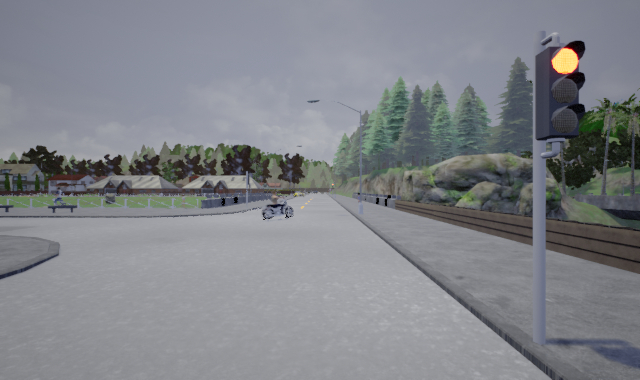motobike: (260, 193, 295, 221)
pedestrian: (51, 186, 66, 208)
traffic_light: (536, 40, 586, 140)
